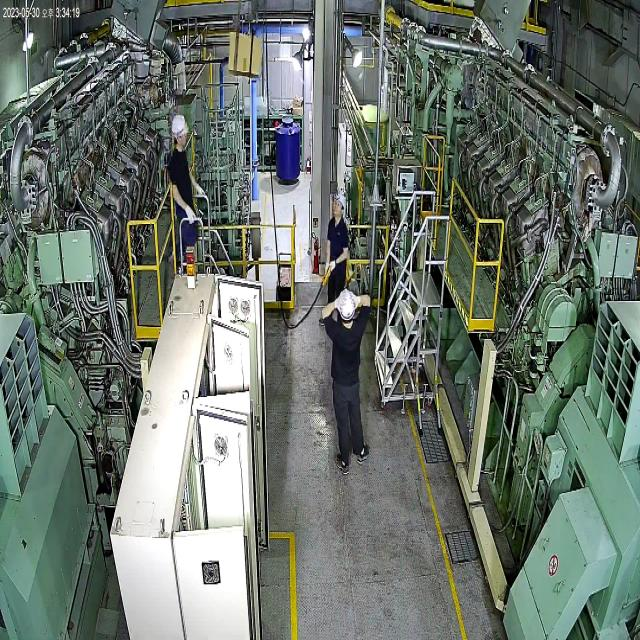Water Tank: (273, 106, 304, 190)
worker: (319, 285, 379, 483), (166, 107, 207, 260), (317, 190, 352, 334)
